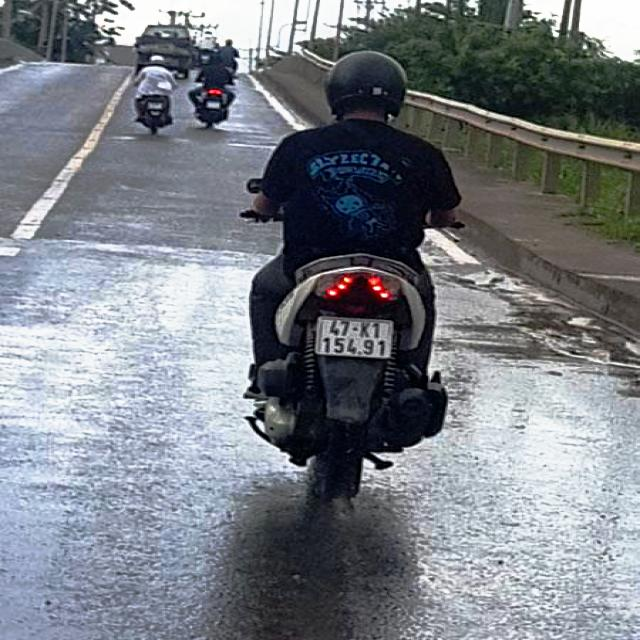license_plate: (314, 316, 391, 358)
